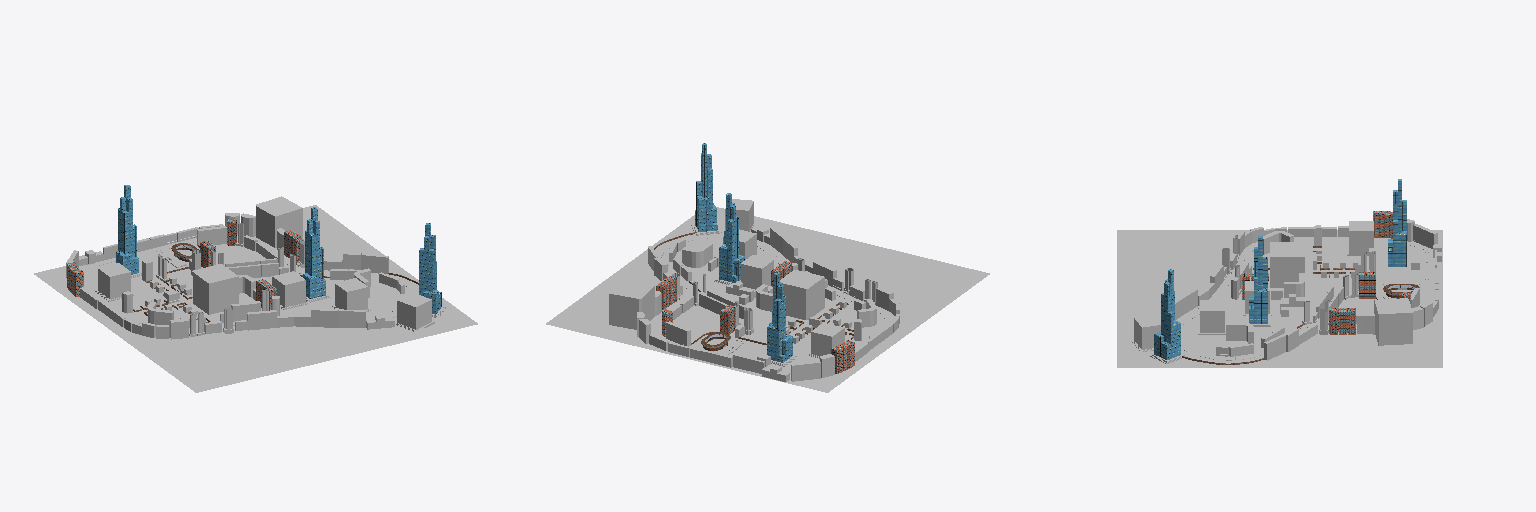
3 renders of one model, left to right at view 1: azimuth 30°, elevation 25°; view 2: azimuth 150°, elevation 25°; view 3: azimuth 270°, elevation 25°, orthographic.
Visible parts, largest first — view 1: Plane, Cube.024_Cube.017, Cube.039_Cube.040, Cube.117_Cube.118, Cube.027_Cube.028, Cube.030, Cube.052, Cube.045, Cube.101_Cube.102, Cube.158_Cube.161, Cube.059; view 2: Plane, Cube.039_Cube.040, Cube.024_Cube.017, Cube.027_Cube.028, Cube.030, Cube.117_Cube.118, Cube.101_Cube.102, Cube.045, Plane.049_Plane.001, Cube.031, Cube.052, Cube.026_Cube.027; view 3: Plane, Cube.039_Cube.040, Cube.030, Cube.024_Cube.017, Cube.027_Cube.028, Cube.117_Cube.118, Cube.158_Cube.161, Cube.045, Cube.052.
Part boxes in pixels (x1,y1,x2,y2): Plane: (34, 205, 477, 392); Cube.024_Cube.017: (193, 264, 238, 314); Cube.039_Cube.040: (256, 196, 302, 247); Cube.117_Cube.118: (303, 207, 330, 302); Cube.027_Cube.028: (116, 185, 141, 277); Cube.030: (419, 223, 445, 317); Cube.052: (395, 293, 434, 331); Cube.045: (95, 263, 133, 301); Cube.101_Cube.102: (272, 271, 308, 309); Cube.158_Cube.161: (332, 278, 370, 311); Cube.059: (247, 310, 276, 330); Plane: (546, 207, 989, 392); Cube.039_Cube.040: (609, 280, 654, 329); Cube.024_Cube.017: (780, 270, 824, 319); Cube.027_Cube.028: (767, 273, 796, 366); Cube.030: (691, 143, 721, 235); Cube.117_Cube.118: (714, 193, 744, 284); Cube.101_Cube.102: (741, 255, 773, 289); Cube.045: (808, 323, 844, 358); Plane.049_Plane.001: (697, 339, 766, 358); Cube.031: (682, 242, 712, 267); Cube.052: (722, 199, 756, 232); Cube.026_Cube.027: (791, 361, 820, 381); Plane: (1117, 230, 1442, 367); Cube.039_Cube.040: (1374, 298, 1412, 345); Cube.030: (1150, 269, 1185, 363); Cube.024_Cube.017: (1270, 242, 1304, 287); Cube.027_Cube.028: (1384, 179, 1410, 269); Cube.117_Cube.118: (1245, 236, 1271, 326); Cube.158_Cube.161: (1198, 300, 1226, 334); Cube.045: (1347, 221, 1375, 255); Cube.052: (1131, 314, 1160, 351).
Size of the model in its own units: 30.17 by 8.77 by 30.17.
Materials: 40 (5 with a texture image).